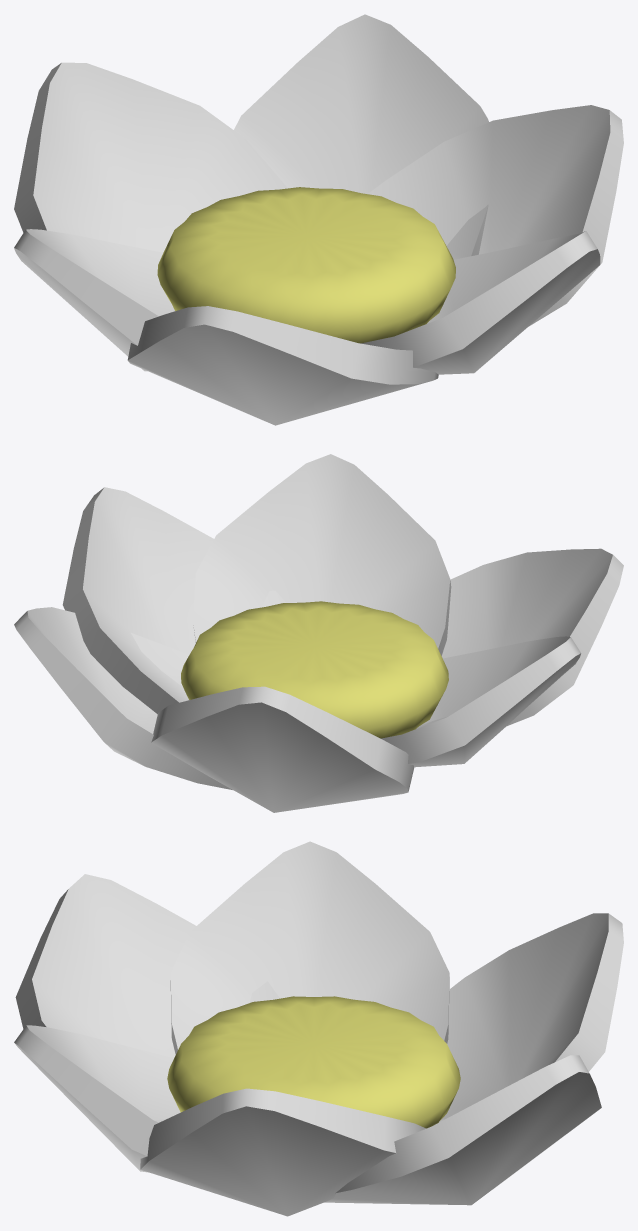
Rendered from Lily.fbx.
3 views of the same model, one above another, from view 1: azimuth 30°, elevation 25°; view 2: azimuth 150°, elevation 25°; view 3: azimuth 270°, elevation 25° (orthographic). The views are drawn at different scales.
Parts seen in each view (by area): view 1: pCylinder11, pCylinder9; view 2: pCylinder11, pCylinder9; view 3: pCylinder11, pCylinder9.
Boxes of the visible parts, bbox=[...] form: pCylinder11: bbox=[14, 14, 623, 425]; pCylinder9: bbox=[157, 187, 455, 343]; pCylinder11: bbox=[14, 454, 623, 812]; pCylinder9: bbox=[181, 601, 448, 738]; pCylinder11: bbox=[14, 841, 623, 1216]; pCylinder9: bbox=[167, 996, 460, 1128].
Size of the model in its own units: 1.22 by 0.4317 by 1.15.
